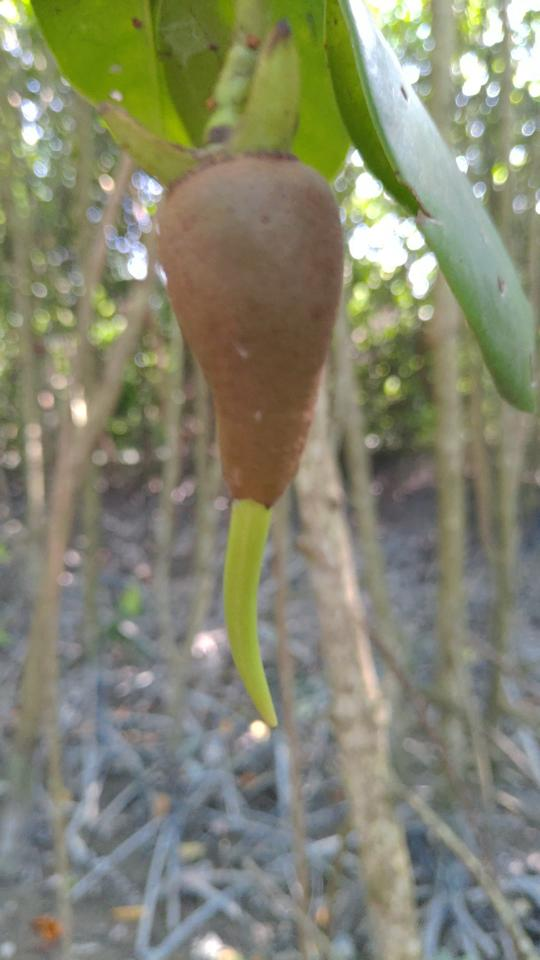mentah: (109, 49, 378, 741)
